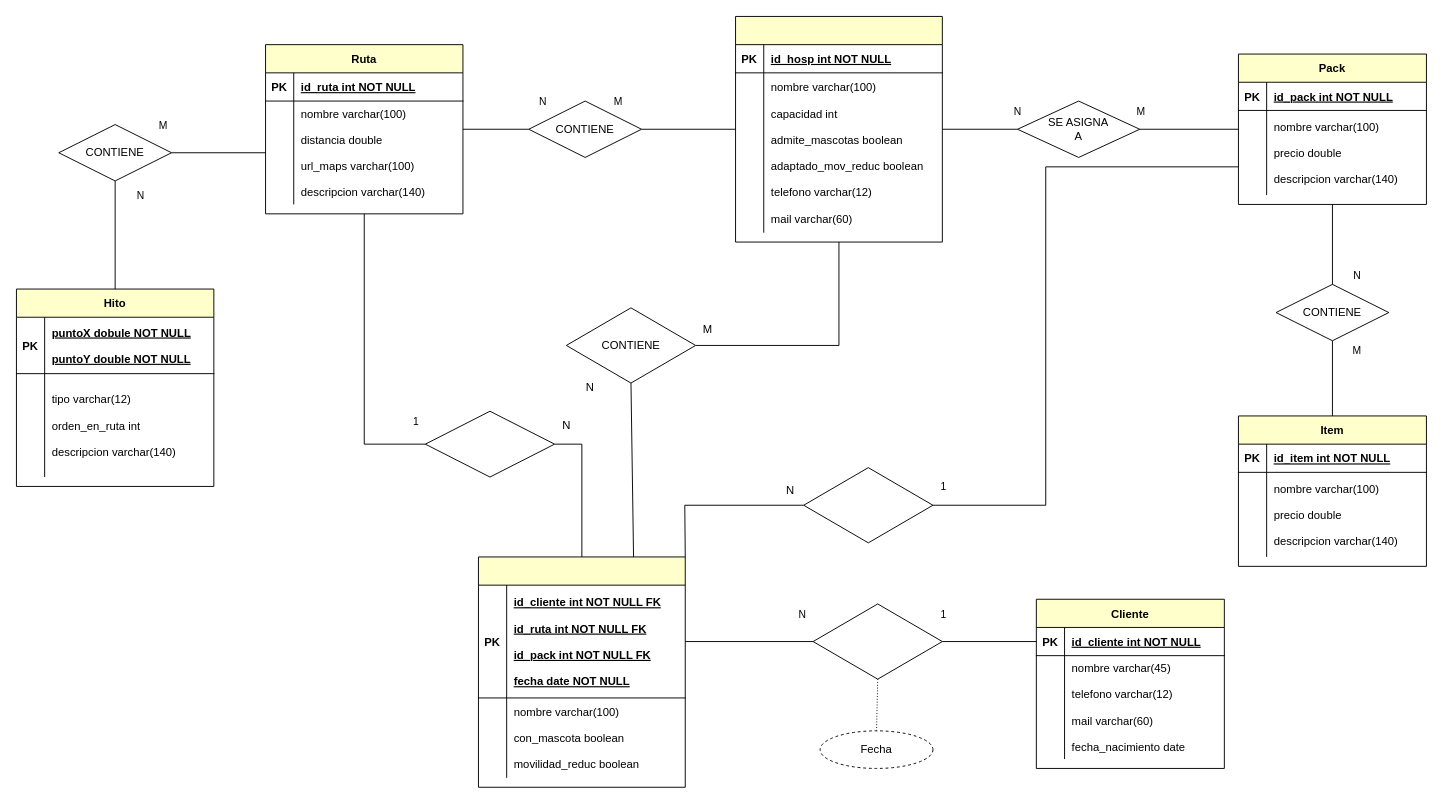
Image size: 1443x804. Some labels were removed from this diagram. Here are the shapes that lost their labels. From the top down, the box of each, then its label:
(735, 16, 942, 242): Hospedaje
(424, 410, 555, 477): RECORRE
(803, 467, 933, 543): CORRESPONDE A
(812, 603, 942, 679): PERTENECE A
(478, 556, 685, 787): Viaje
